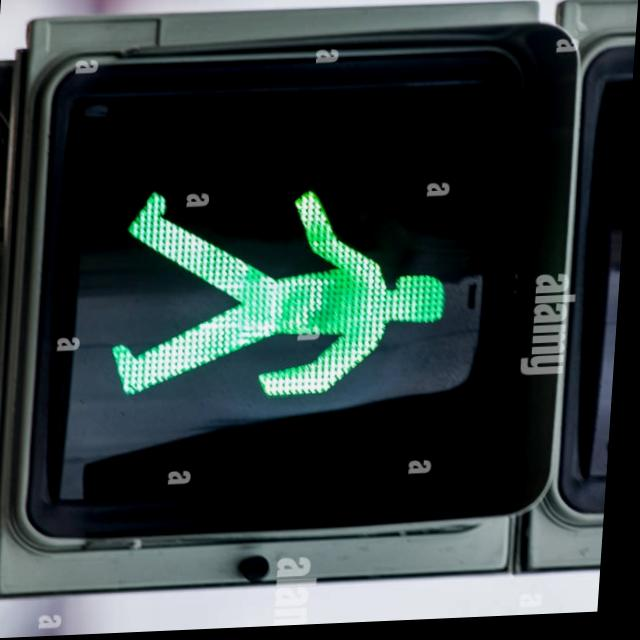green_light: (117, 212, 476, 403)
